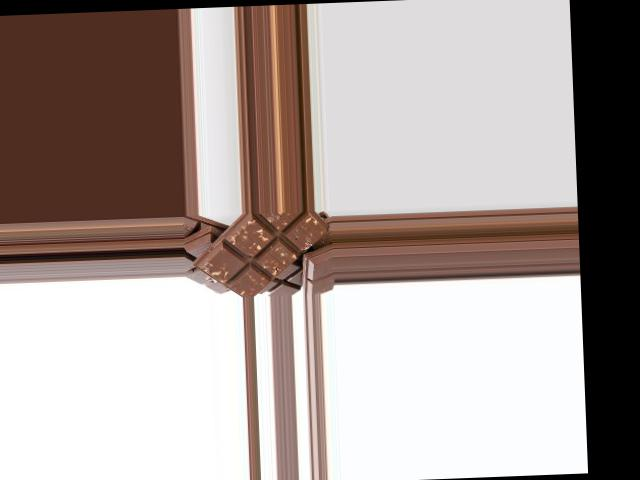chocolate: (200, 209, 330, 297)
